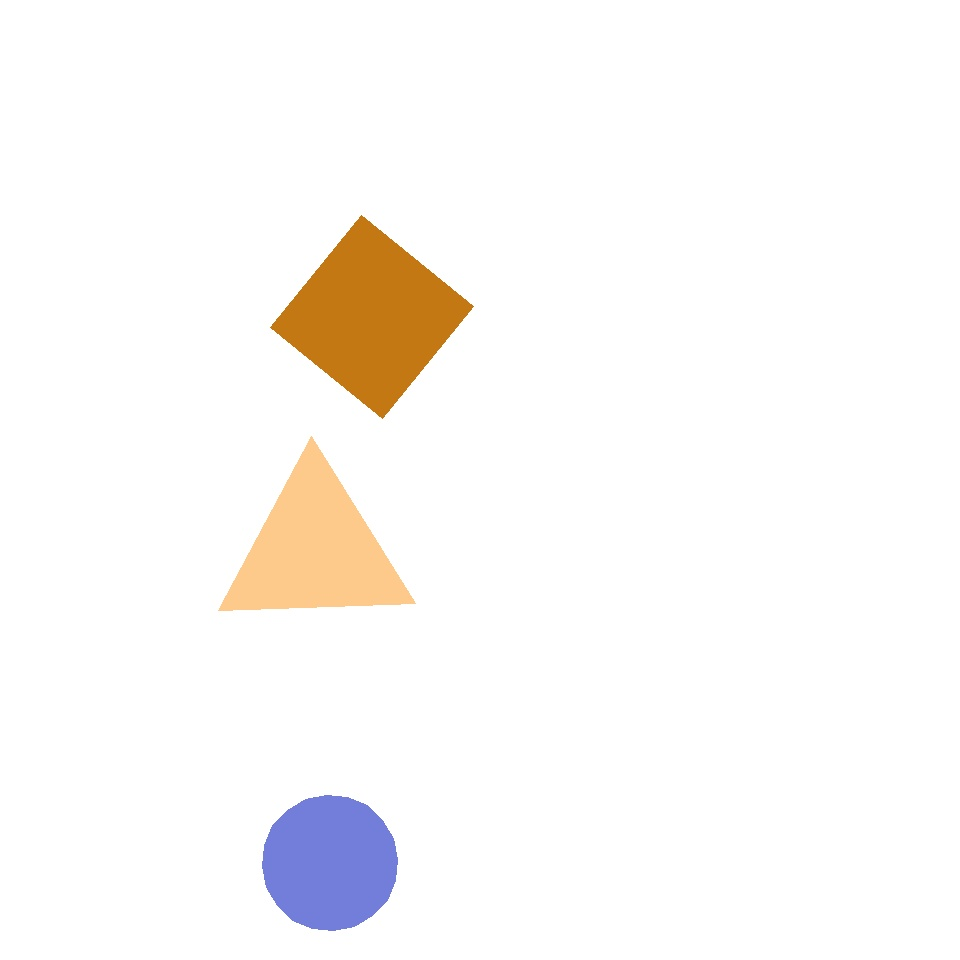circle: (216, 463, 414, 637), (755, 204, 873, 314)
square: (270, 216, 474, 418)
triangle: (262, 796, 398, 930), (584, 324, 687, 428)
